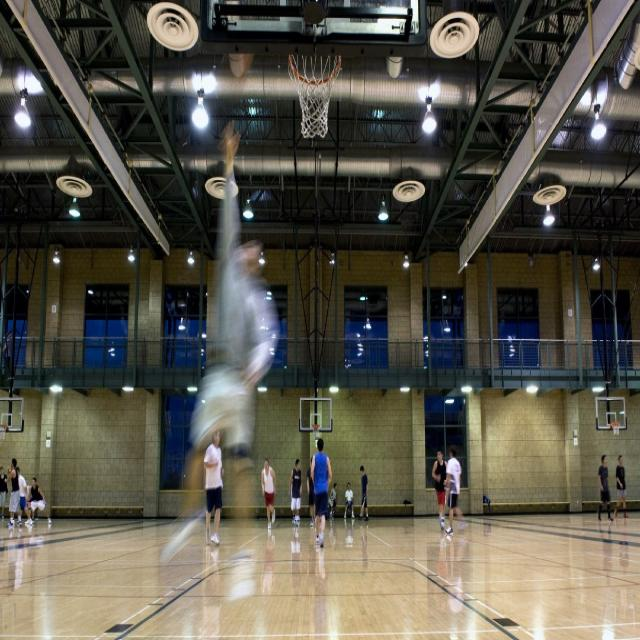body: (159, 119, 280, 603), (258, 528, 372, 608), (2, 526, 47, 594), (434, 536, 471, 618), (204, 428, 226, 548), (310, 437, 333, 549), (444, 442, 469, 536), (599, 525, 631, 583), (257, 456, 279, 538), (431, 448, 450, 530), (6, 455, 22, 529), (612, 452, 629, 521), (597, 453, 613, 522), (15, 466, 33, 526), (288, 457, 303, 528), (26, 476, 46, 525), (357, 465, 370, 523), (306, 455, 316, 528), (17, 482, 33, 525), (343, 481, 355, 520), (0, 465, 8, 522), (327, 481, 338, 521), (24, 483, 34, 525)
